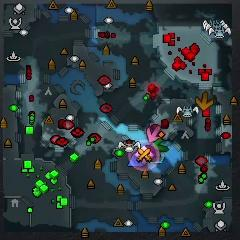Other: (135, 146, 153, 163)
p1: (128, 153, 144, 168)
p3: (145, 145, 156, 160)
x1: (146, 126, 162, 142)
x4: (153, 139, 169, 151)
x5: (195, 91, 214, 112)
